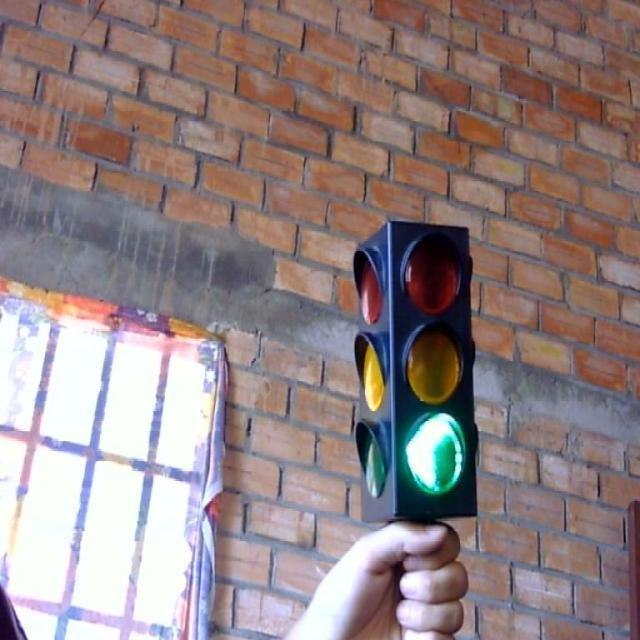green_light: (352, 219, 476, 519)
